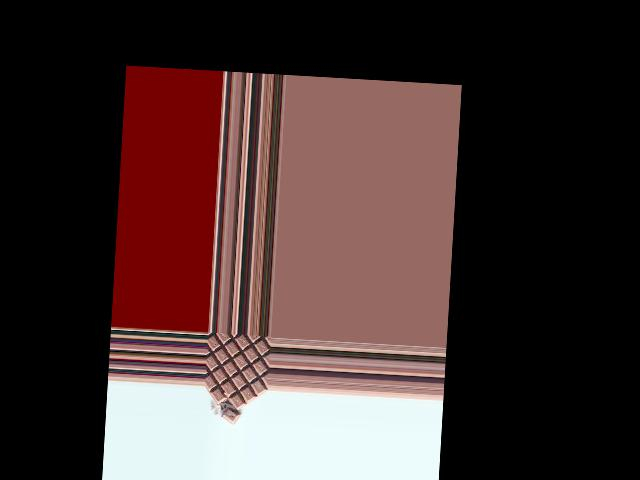chocolate: (204, 332, 268, 417)
